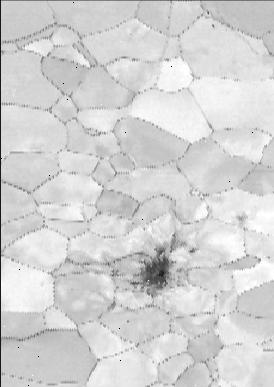good_void: (125, 231, 202, 306), (231, 205, 249, 227), (209, 20, 217, 30), (227, 273, 235, 280), (205, 9, 211, 15)
